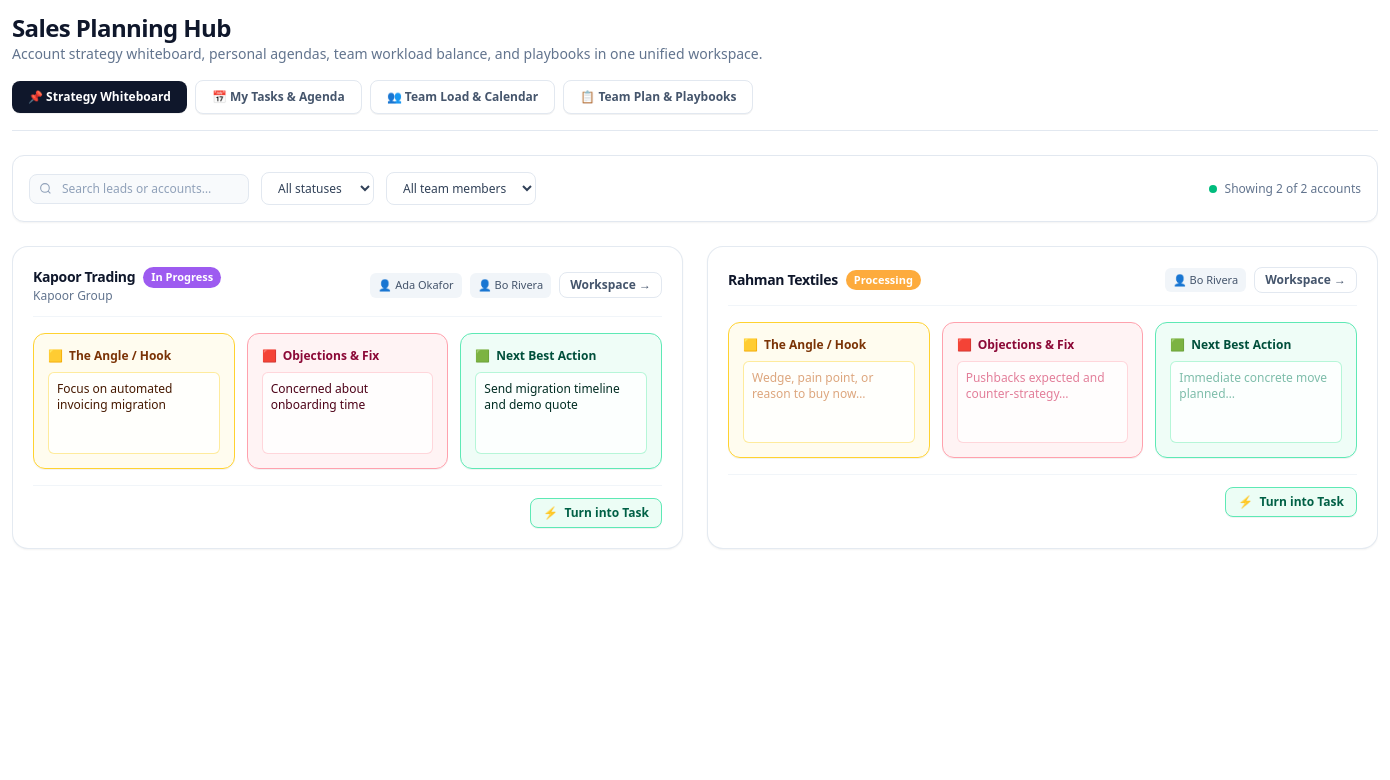
Test: TeamPlanningPage › switches to Team Load & Calendar to show the week’s scheduled tasks with density controls
Click the tab "👥 Team Load & Calendar" at (462, 97), box [370,80,555,114]
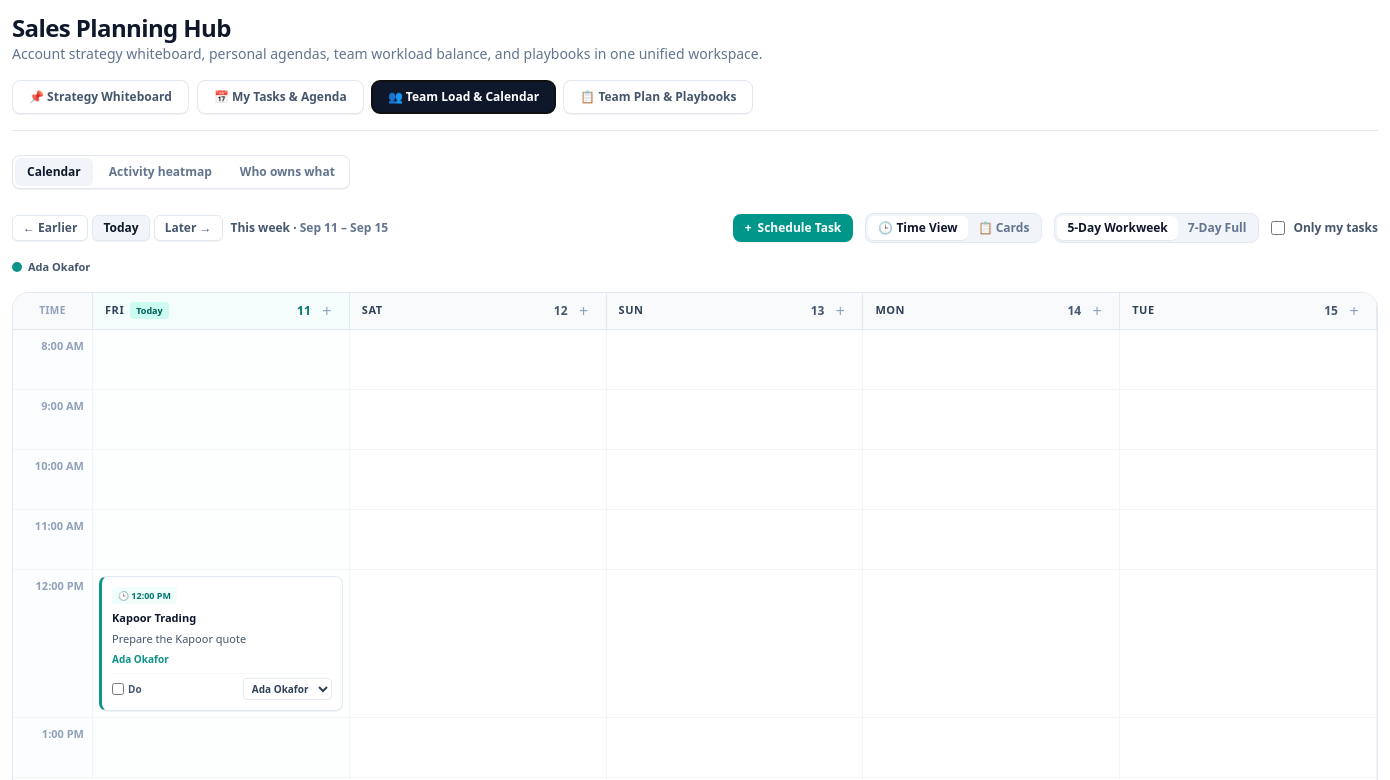
Expected: the text "Prepare the Kapoor quote" is shown, [112,631,246,646]
Expected: the 1st text "Ada Okafor" is shown, [12,259,90,276]
Expected: the button "5-Day Workweek" is shown, [1057,216,1178,240]
